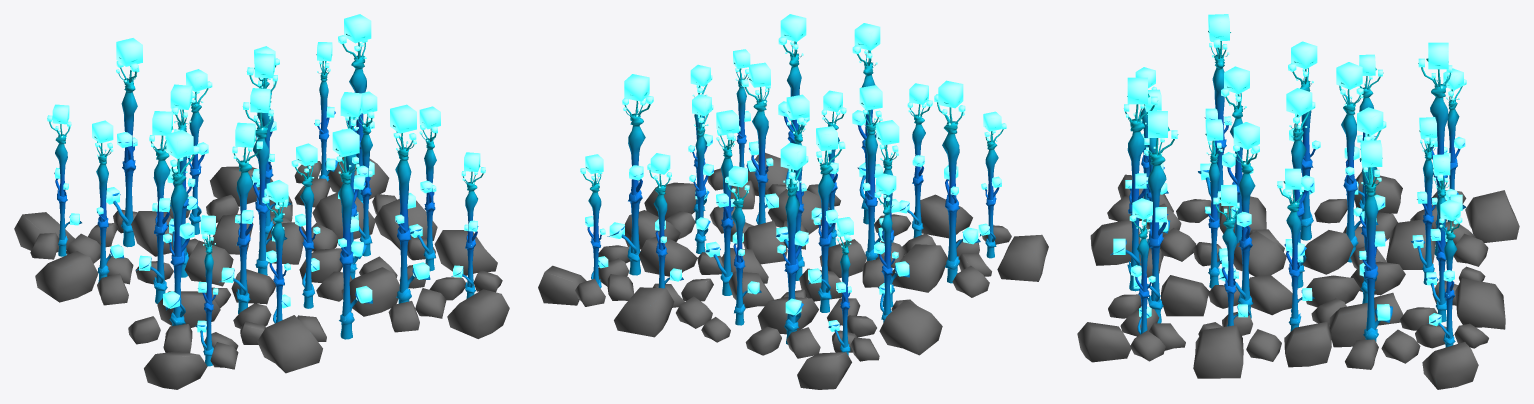
The model's file is Plante Aqua C 2x2.glb.
3 views of the same model, side by side, from view 1: azimuth 30°, elevation 25°; view 2: azimuth 150°, elevation 25°; view 3: azimuth 270°, elevation 25° (orthographic). The views are drawn at different scales.
Parts seen in each view (by area): view 1: Cube.024; view 2: Cube.024; view 3: Cube.024.
Boxes of the visible parts, <box> form: Cube.024: <box>14,14,509,389</box>; Cube.024: <box>538,14,1048,389</box>; Cube.024: <box>1077,14,1519,389</box>.
Size of the model in its own units: 4.02 by 2.13 by 3.96.
73 materials, 73 textured.
